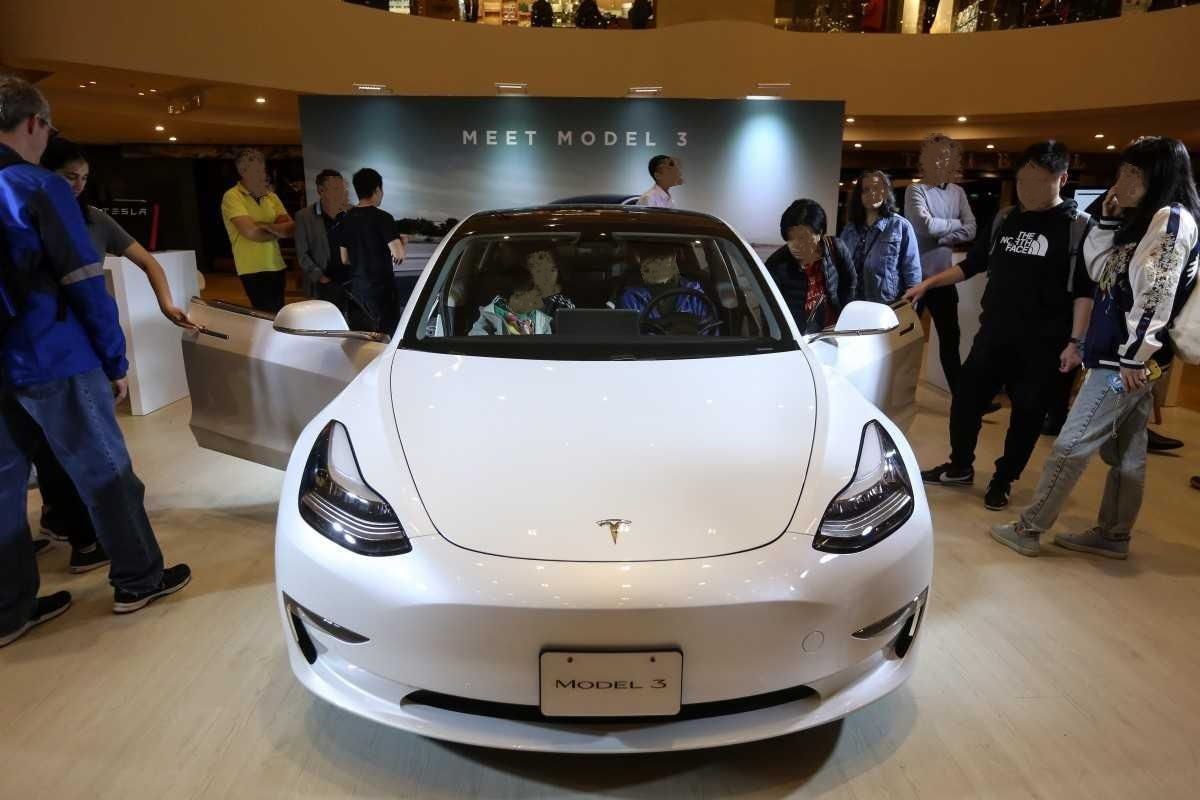Tesla: (596, 518, 633, 544)
